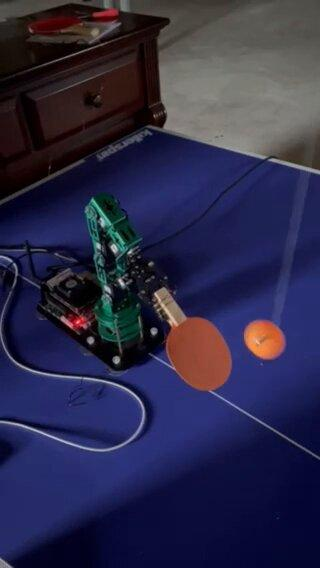oball: (240, 320, 287, 359)
